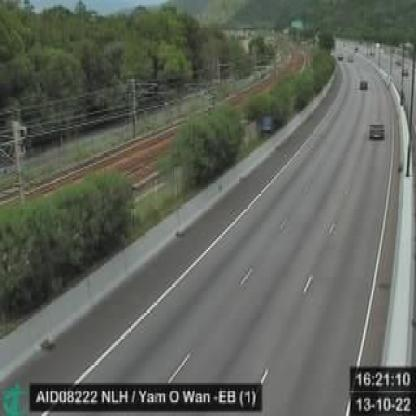Car: (369, 121, 386, 140), (360, 78, 370, 90)
